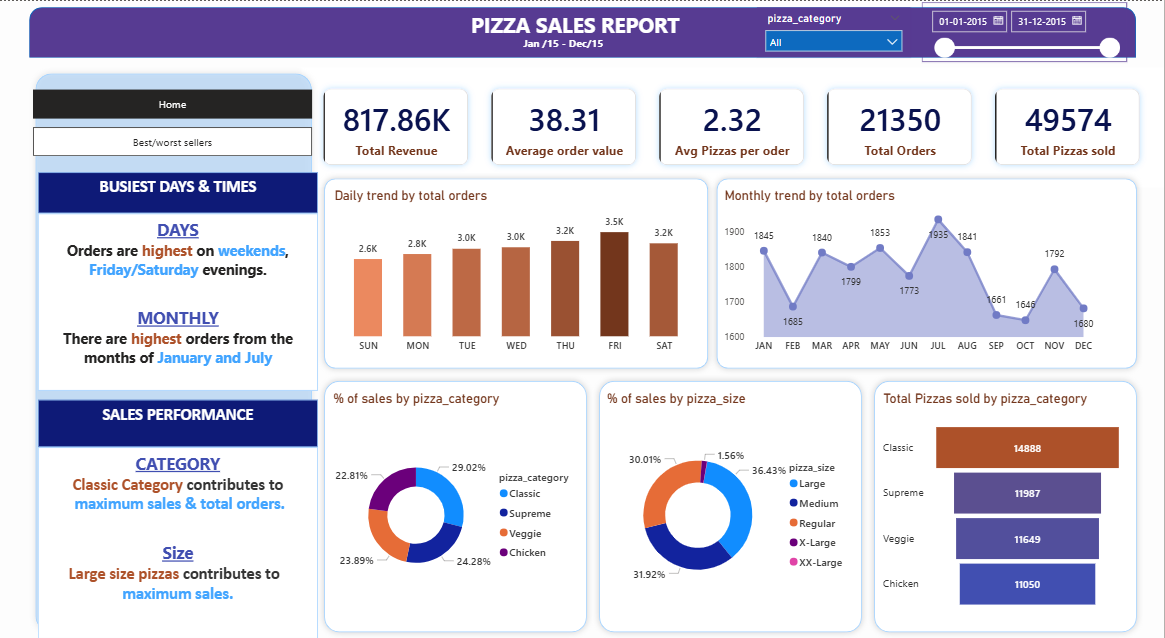

What the dashboard file says about the page in this screenshot:
{"tool":"powerbi","page":{"name":"Home","canvas":[1500,820],"ordinal":0},"visuals":[{"type":"cardVisual","fields":{"Data":["pizza_sales.Total Revenue","pizza_sales.Average order value","pizza_sales.Avg Pizzas per oder","pizza_sales.Total Orders","pizza_sales.Total Pizzas sold"]},"box":[390.8,85.2,1109.6,154.4],"z":0},{"type":"shape","box":[40,7.5,1423.8,65],"z":1000},{"type":"textbox","box":[575,7.5,333.8,46.2],"z":2000},{"type":"textbox","box":[669.9,40.4,341.2,32],"z":3000},{"type":"shape","box":[411.7,220.3,509.8,260.5],"z":4000},{"type":"columnChart","title":"Daily trend by total orders","fields":{"Category":["pizza_sales.Order Day"],"Y":["pizza_sales.Total Orders"]},"box":[427.7,239.6,479.2,221.9],"z":5000},{"type":"shape","box":[916.6,220.3,556.4,260.5],"z":6000},{"type":"areaChart","title":"Monthly trend by total orders","fields":{"Y":["pizza_sales.Total Orders"],"Category":["pizza_sales.Order Month"]},"box":[929.5,239.6,487.2,221.9],"z":7000},{"type":"shape","box":[40.2,85.2,371.5,734.9],"z":8000},{"type":"shape","box":[765.4,480.8,353.8,339.3],"z":9000},{"type":"shape","box":[1119.2,480.8,353.8,339.3],"z":10000},{"type":"shape","box":[411.7,480.8,353.8,339.3],"z":11000},{"type":"donutChart","title":"% of sales by pizza_category","fields":{"Category":["pizza_sales.pizza_category"],"Y":["pizza_sales.Total Orders"]},"box":[426.1,501.7,326.4,299.1],"z":12000},{"type":"donutChart","title":"% of sales by pizza_size","fields":{"Y":["pizza_sales.Total Orders"],"Category":["pizza_sales.pizza_size"]},"box":[778.3,501.7,326.4,299.1],"z":13000},{"type":"funnel","fields":{"Category":["pizza_sales.pizza_category"],"Y":["pizza_sales.Total Pizzas sold"]},"box":[1133.7,501.7,318.4,299.1],"z":14000},{"type":"textbox","box":[51.5,220.3,360.2,53.1],"z":15000},{"type":"textbox","box":[51.5,273.4,360.2,228.3],"z":16000},{"type":"textbox","box":[51.5,574.1,360.2,246],"z":17000},{"type":"textbox","box":[51.5,513,360.2,61.1],"z":18000},{"type":"slicer","fields":{"Values":["pizza_sales.pizza_category"]},"box":[976.1,8,197.8,64.3],"z":19000},{"type":"slicer","fields":{"Values":["pizza_sales.order_date"]},"box":[1188.4,1.6,263.7,77.2],"z":20000},{"type":"pageNavigator","box":[45.2,114.5,359.8,37.1],"z":20001},{"type":"pageNavigator","box":[45.2,162.9,359.8,37.1],"z":20002}]}

Visuals, with their boxes in screenshot pixels (x1, y1, x2, y2), scaled from the page's 1500x820 canvas onto the 1165x638 screenshot:
cardVisual - pizza_sales.Total Revenue x pizza_sales.Average order value: 304 66 1164 186
shape: 31 6 1137 56
textbox: 447 6 706 42
textbox: 520 31 785 56
shape: 320 171 716 374
"Daily trend by total orders" columnChart: 332 186 704 359
shape: 712 171 1144 374
"Monthly trend by total orders" areaChart: 722 186 1100 359
shape: 31 66 320 637
shape: 594 374 869 637
shape: 869 374 1144 637
shape: 320 374 595 637
"% of sales by pizza_category" donutChart: 331 390 584 623
"% of sales by pizza_size" donutChart: 604 390 858 623
funnel - pizza_sales.pizza_category x pizza_sales.Total Pizzas sold: 881 390 1128 623
textbox: 40 171 320 213
textbox: 40 213 320 390
textbox: 40 447 320 637
textbox: 40 399 320 447
slicer - pizza_sales.pizza_category: 758 6 912 56
slicer - pizza_sales.order_date: 923 1 1128 61
pageNavigator: 35 89 315 118
pageNavigator: 35 127 315 156
